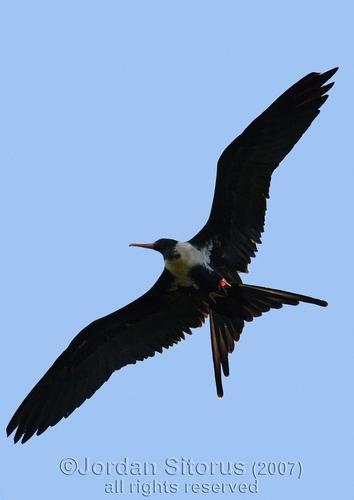bird: (4, 62, 344, 448)
